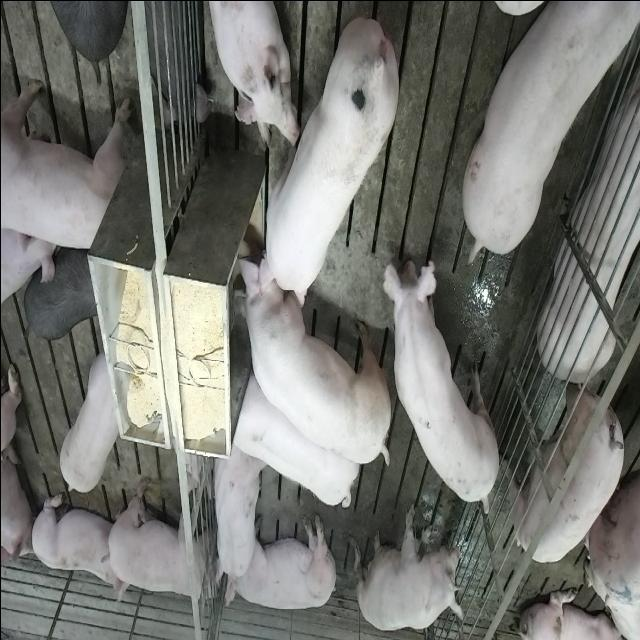Feeding: (253, 14, 400, 308), (224, 243, 388, 467)
Lateral_lying: (222, 512, 338, 612)
Sitting: (354, 503, 464, 633)
Standing: (464, 0, 640, 258), (387, 241, 503, 509), (1, 72, 130, 255), (510, 376, 630, 562), (228, 373, 359, 512), (104, 475, 220, 611), (55, 349, 124, 498), (20, 240, 99, 340)
Sternal_lying: (540, 29, 640, 380), (203, 0, 294, 148), (27, 484, 123, 606), (207, 436, 262, 594)
